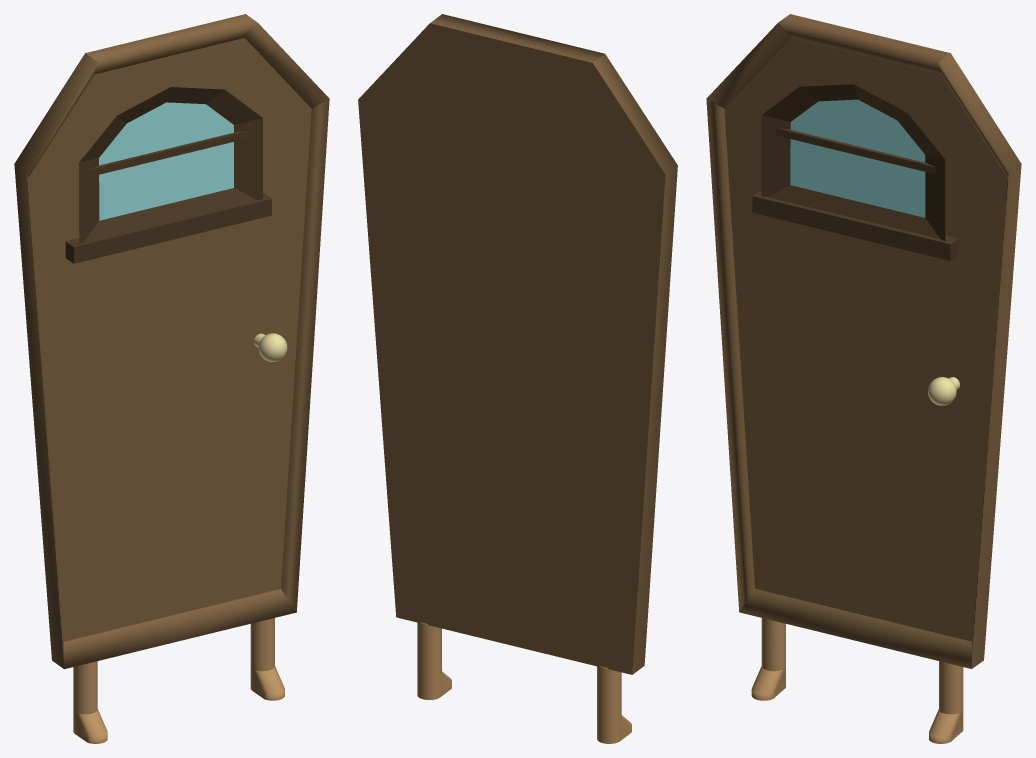
Rendered from UnityModel_Door.fbx.
The picture shows the model from 3 angles, left to right: view 1: azimuth 30°, elevation 25°; view 2: azimuth 150°, elevation 25°; view 3: azimuth 330°, elevation 25°; orthographic projection.
Parts seen in each view (by area): view 1: pasted__polySurface1, pCylinder3, pasted__pCylinder3; view 2: pasted__polySurface1, pCylinder3, pasted__pCylinder3; view 3: pasted__polySurface1, pCylinder3, pasted__pCylinder3.
Boxes of the visible parts, box(x1,y1,x2,y2) form: pasted__polySurface1: box(14, 14, 329, 669); pCylinder3: box(250, 618, 284, 700); pasted__pCylinder3: box(73, 661, 107, 743); pasted__polySurface1: box(358, 14, 677, 674); pCylinder3: box(417, 622, 451, 699); pasted__pCylinder3: box(597, 666, 631, 743); pasted__polySurface1: box(706, 14, 1021, 668); pCylinder3: box(929, 661, 963, 743); pasted__pCylinder3: box(751, 618, 785, 700).
Size of the model in its own units: 1.64 by 3.47 by 0.2353.
